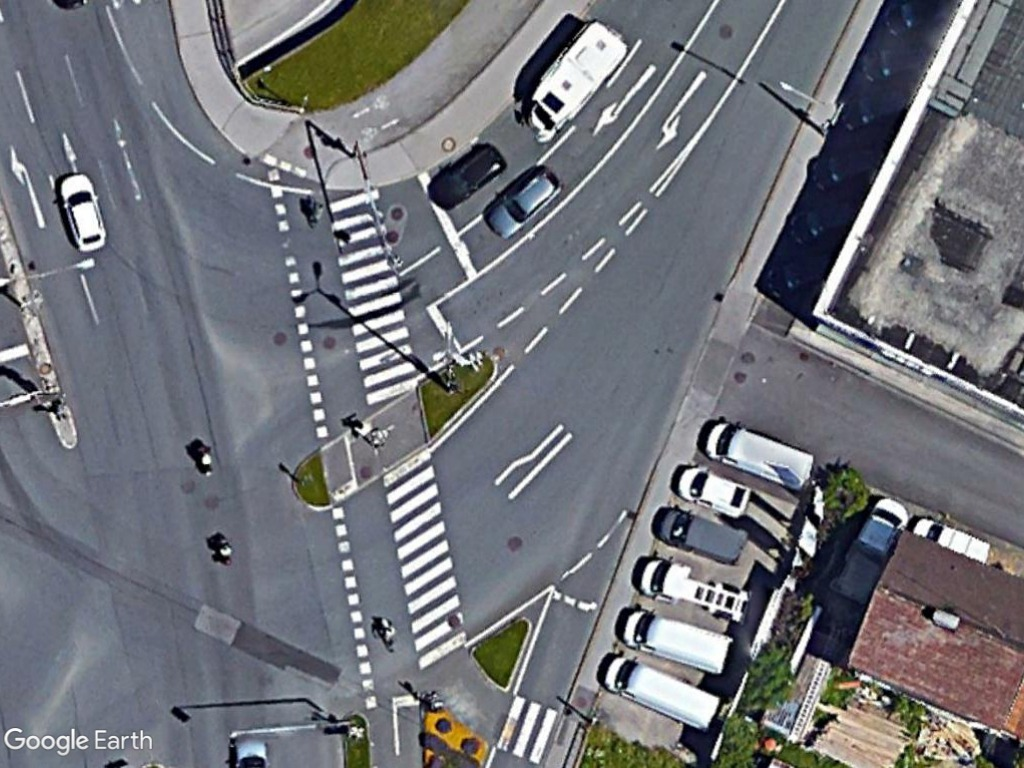car: (483, 166, 562, 239), (671, 458, 756, 521), (52, 167, 109, 254)
van: (599, 651, 723, 737), (702, 416, 820, 494), (617, 601, 737, 677), (649, 502, 750, 573)
